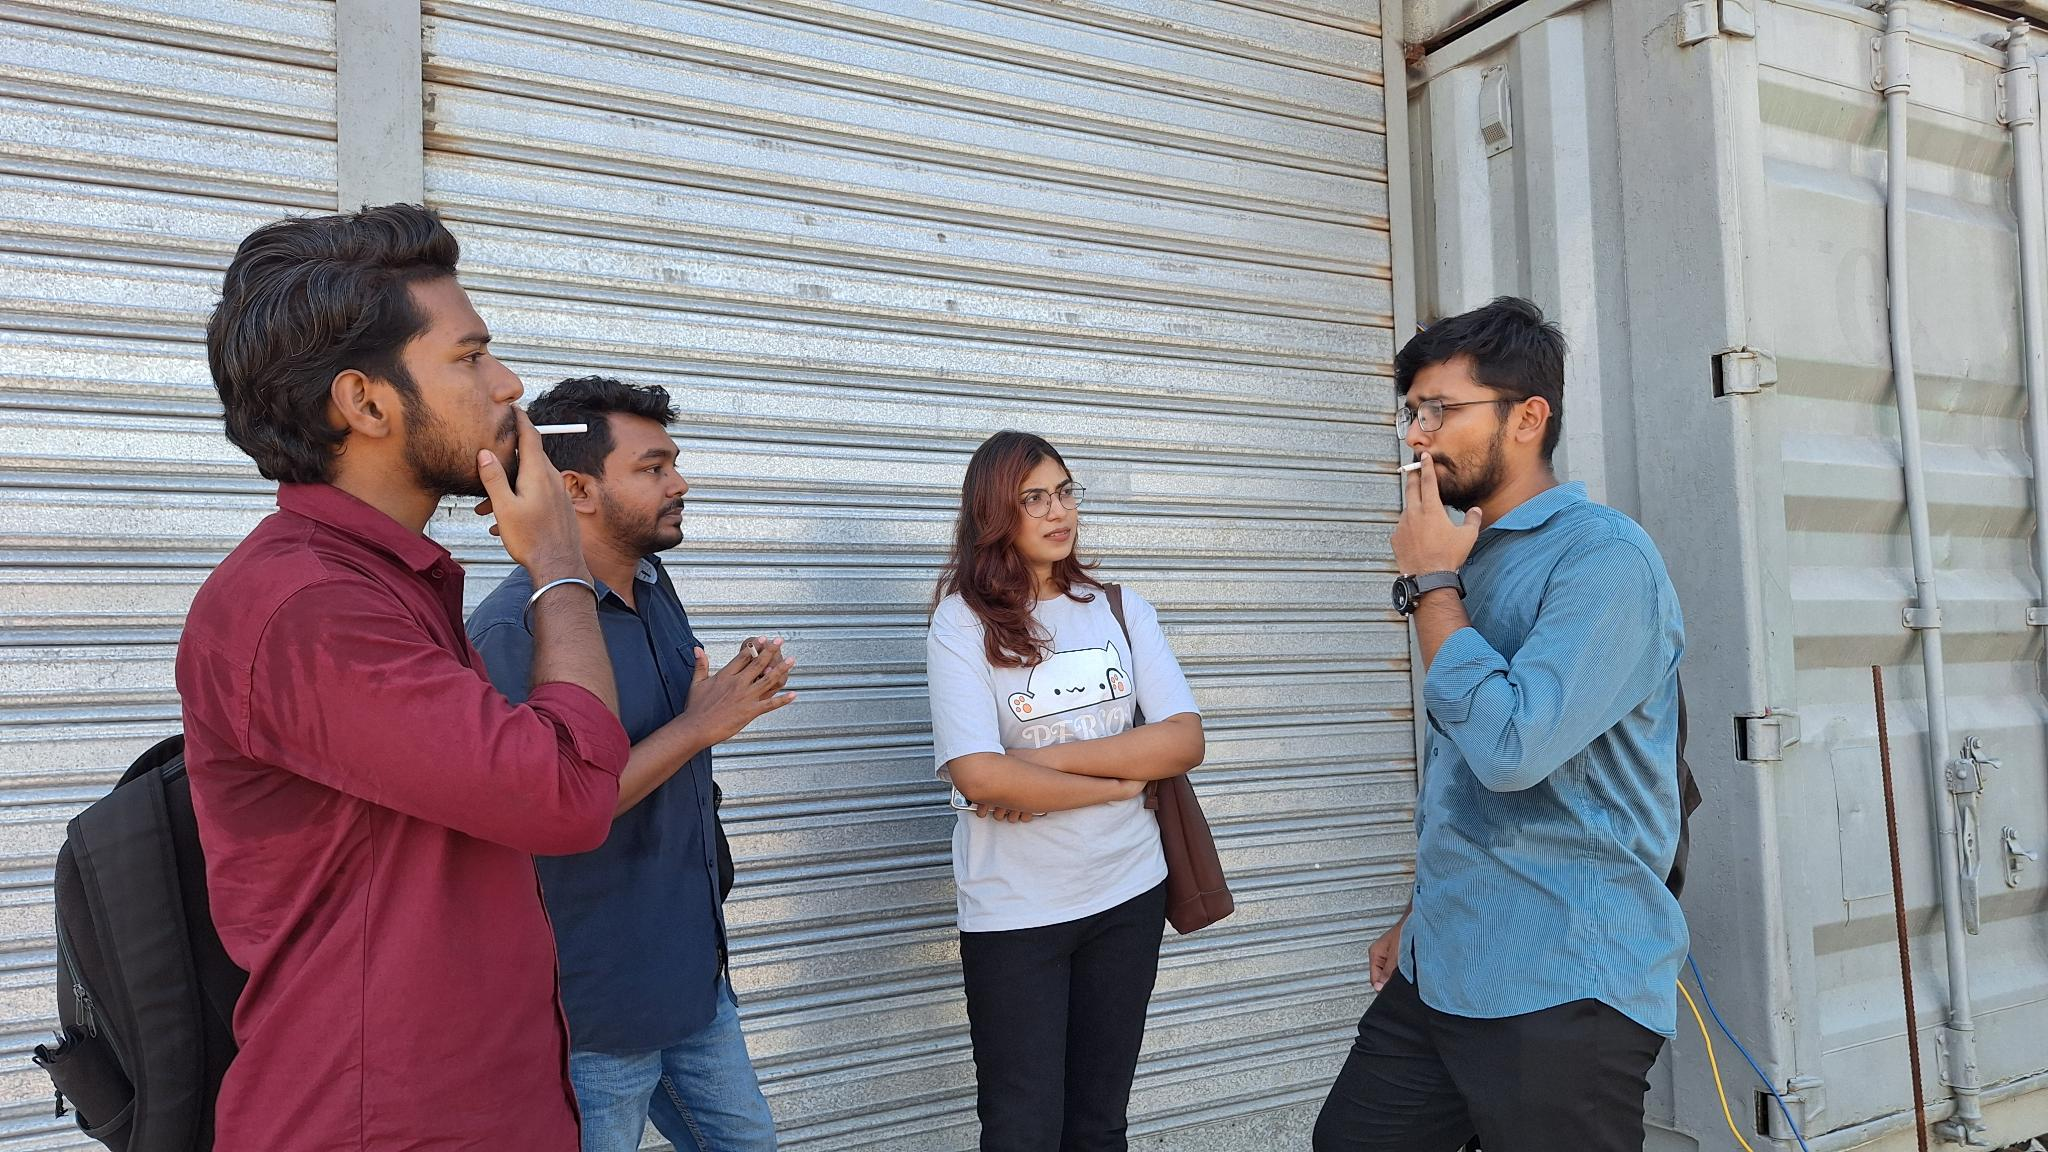cigarette: (532, 422, 589, 436), (1394, 460, 1423, 474), (745, 640, 761, 660)
nonSmoker: (927, 430, 1235, 1152)
smoker: (32, 205, 630, 1152), (1311, 295, 1701, 1152), (466, 377, 798, 1152)
